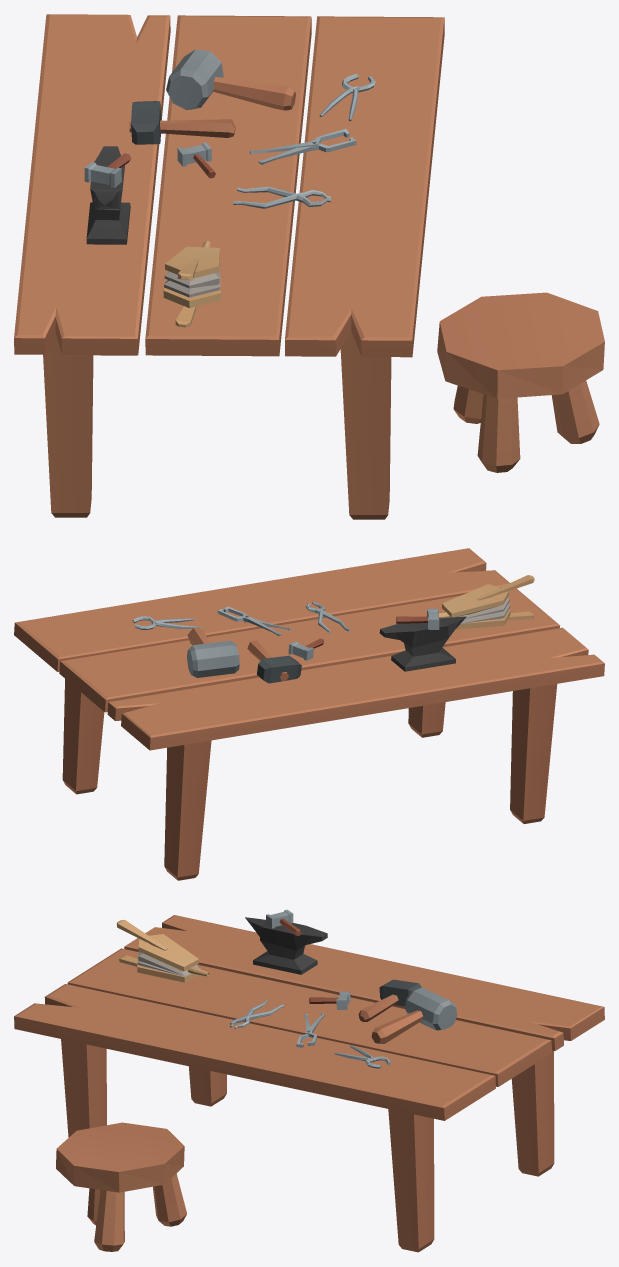
File: Mesa refinaria.fbx
The picture shows the model from 3 angles, top to bottom: view 1: azimuth 30°, elevation 25°; view 2: azimuth 150°, elevation 25°; view 3: azimuth 270°, elevation 25°; orthographic projection. The views are drawn at different scales.
Visible parts, largest first — view 1: Mesa refinaria; view 2: Mesa refinaria; view 3: Mesa refinaria.
Boxes of the visible parts, left/top/right/bottom form: Mesa refinaria: left=14, top=14, right=604, bottom=519; Mesa refinaria: left=14, top=548, right=604, bottom=880; Mesa refinaria: left=14, top=909, right=604, bottom=1252.
Bounding box in the file's own units: 370 × 168 × 416.
